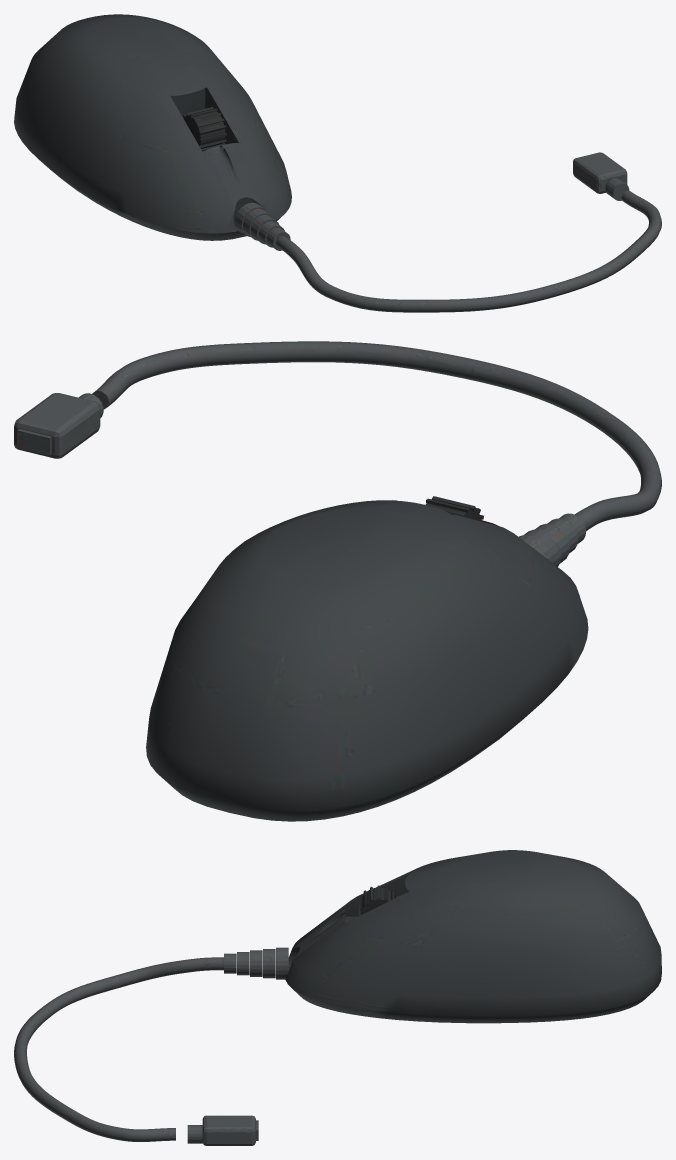
Rendered from mouse-e.glb.
3 renders of one model, top to bottom at view 1: azimuth 30°, elevation 25°; view 2: azimuth 150°, elevation 25°; view 3: azimuth 270°, elevation 25°, orthographic. The views are drawn at different scales.
Parts seen in each view (by area): view 1: so-baked; view 2: so-baked; view 3: so-baked.
Part boxes in pixels (x1,y1,x2,y2): so-baked: (14,14,661,312); so-baked: (14,341,661,821); so-baked: (14,850,661,1145).
Bounding box in the file's own units: 0.1463 × 0.0389 × 0.1939.
1 material, 1 textured.
